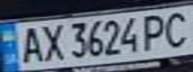2: (103, 16, 124, 56)
3: (66, 19, 87, 60)
4: (118, 13, 145, 55)
6: (84, 18, 106, 58)
A: (15, 24, 45, 64)
C: (160, 8, 193, 48)
P: (139, 11, 172, 52)
X: (36, 21, 66, 62)
